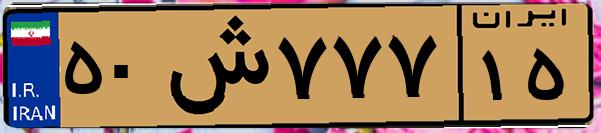0: (110, 28, 158, 98)
1: (475, 38, 525, 113)
5: (57, 26, 110, 100), (525, 38, 570, 115)
7: (270, 28, 330, 110), (385, 28, 445, 110), (330, 28, 385, 110)
ش: (158, 12, 270, 120)
